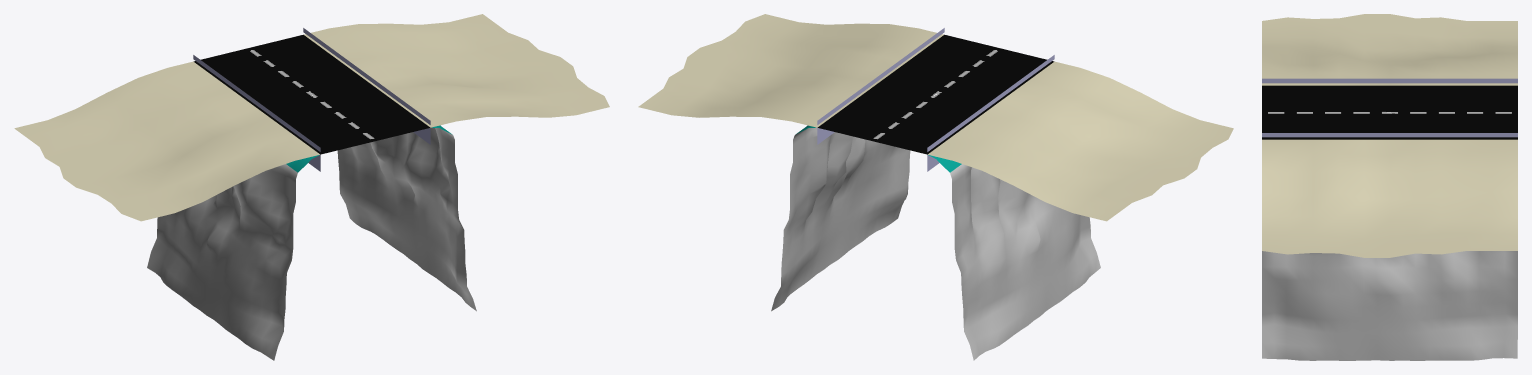
3 views of the same model, side by side, from view 1: azimuth 30°, elevation 25°; view 2: azimuth 150°, elevation 25°; view 3: azimuth 270°, elevation 25° (orthographic).
Parts seen in each view (by area): view 1: sand_1, sand_2, cliff_1, cliff_2, Mesh, guardRail_2, guardRail_1; view 2: sand_1, sand_2, cliff_1, cliff_2, Mesh, guardRail_2, guardRail_1; view 3: sand_2, cliff_2, sand_1, Mesh, guardRail_1, guardRail_2.
Part boxes in pixels (x1,y1,x2,y2): sand_1: (14, 61, 319, 221); sand_2: (304, 14, 609, 127); cliff_1: (147, 155, 318, 360); cliff_2: (337, 125, 476, 311); Mesh: (193, 34, 430, 154); guardRail_2: (303, 28, 430, 124); guardRail_1: (193, 55, 320, 151); sand_1: (928, 61, 1233, 221); sand_2: (638, 14, 943, 127); cliff_1: (928, 155, 1100, 360); cliff_2: (771, 125, 910, 311); Mesh: (817, 34, 1054, 154); guardRail_2: (817, 28, 944, 124); guardRail_1: (927, 55, 1054, 151); sand_2: (1262, 139, 1517, 257); cliff_2: (1262, 251, 1517, 360); sand_1: (1262, 14, 1517, 85); Mesh: (1262, 85, 1517, 139); guardRail_1: (1262, 78, 1517, 83); guardRail_2: (1262, 133, 1517, 137).
Size of the model in its own units: 45.14 by 17.56 by 20.
